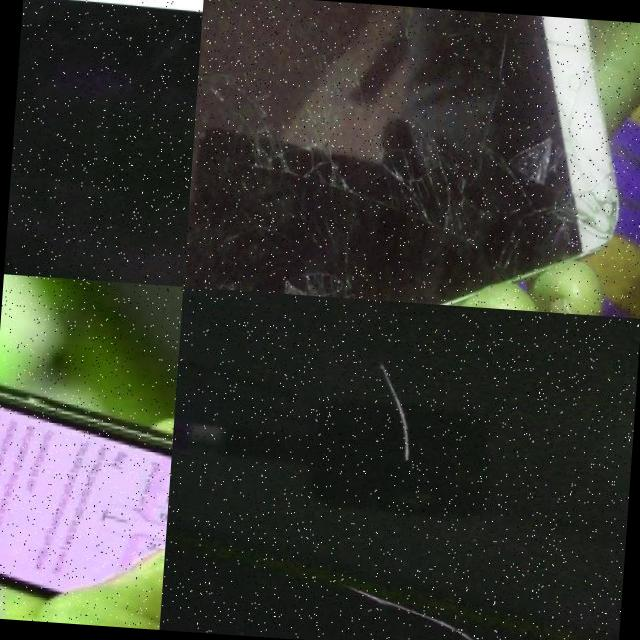scratch: (311, 559, 527, 640), (342, 344, 450, 480)
screen crack: (462, 85, 636, 313), (187, 64, 416, 231), (251, 255, 351, 297)
